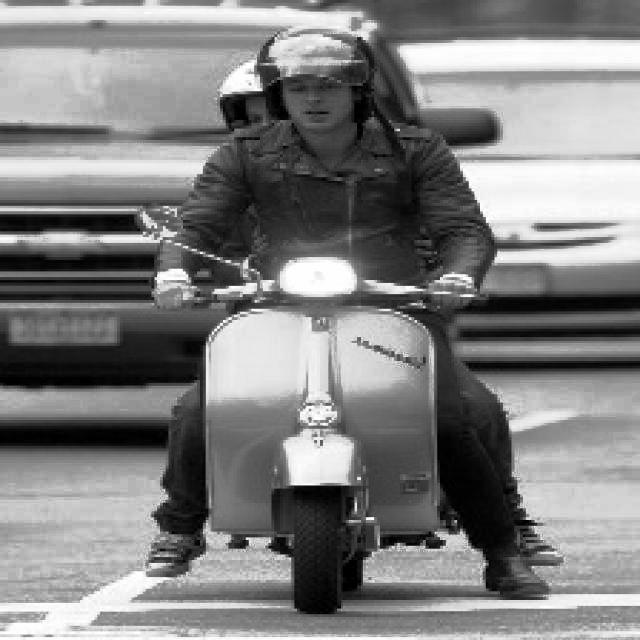Bike: (190, 263, 464, 608)
